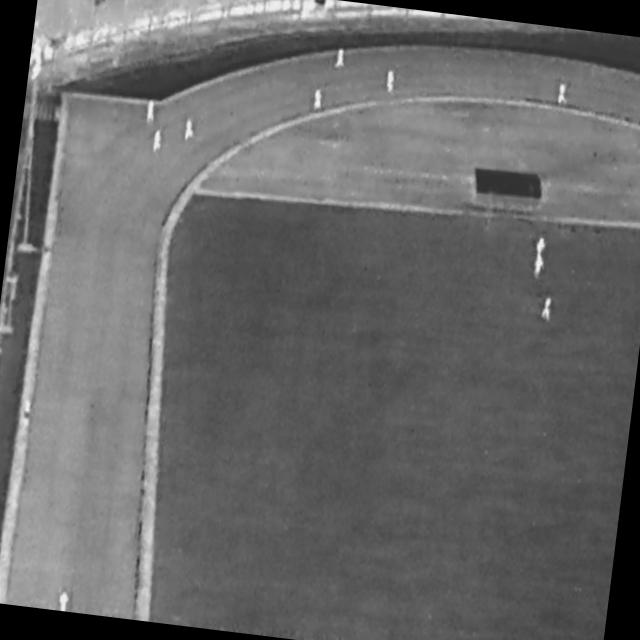person: (541, 297, 554, 323), (533, 254, 546, 280), (23, 397, 34, 427), (184, 118, 197, 143), (146, 99, 158, 126), (557, 83, 570, 107), (313, 87, 325, 112), (152, 131, 164, 154), (385, 70, 396, 95), (57, 591, 70, 612), (536, 237, 548, 259), (335, 49, 346, 71)
